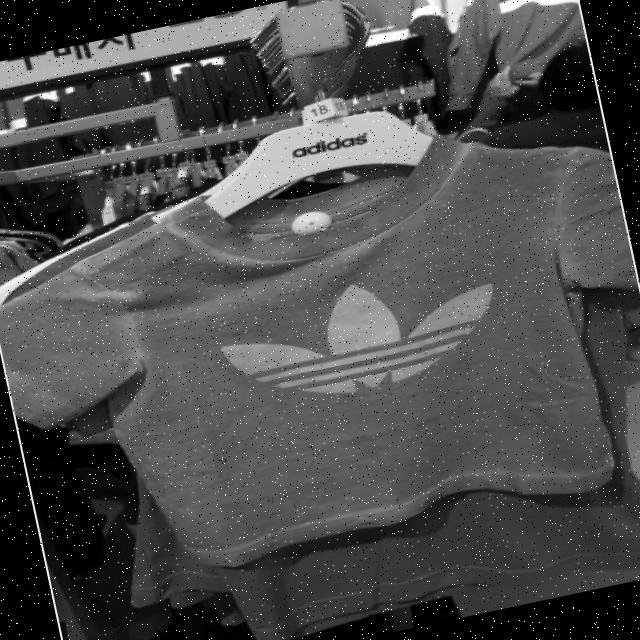Adidas: (199, 247, 520, 425)
